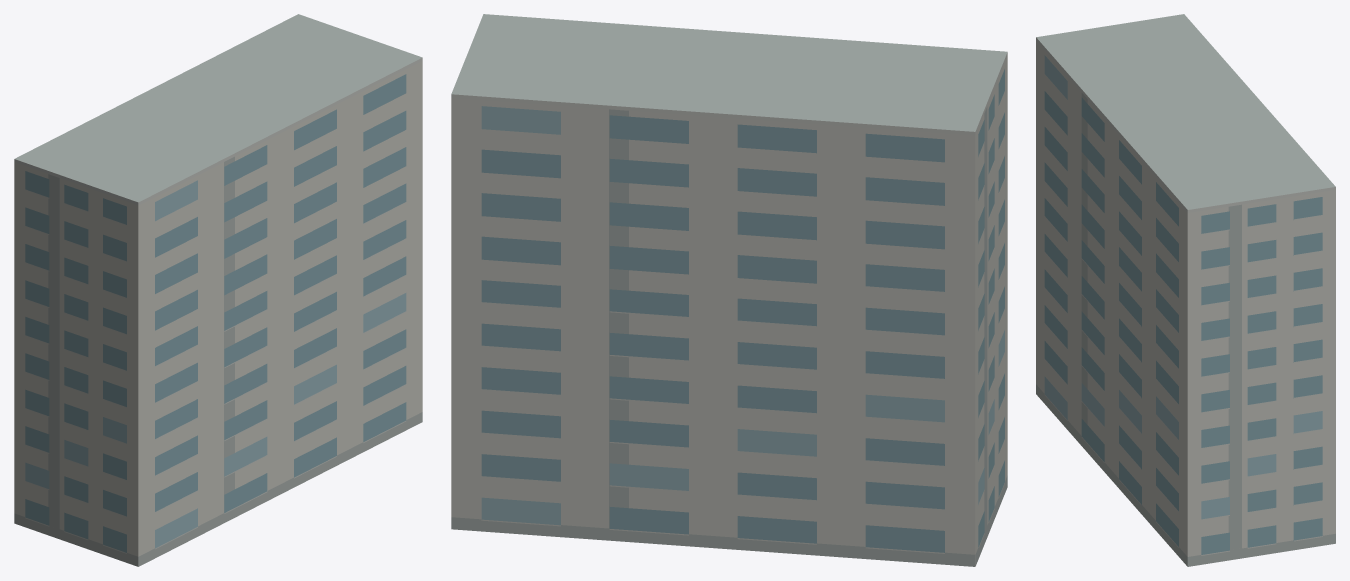
The model's file is residential-2a01c825-186c-497f-a1f9-6c03100957a8.glb.
3 views of the same model, side by side, from view 1: azimuth 30°, elevation 25°; view 2: azimuth 150°, elevation 25°; view 3: azimuth 270°, elevation 25° (orthographic). The views are drawn at different scales.
Parts seen in each view (by area): view 1: residential-2a01c825-186c-497f-a1f9-6c03100957a8.tmp; view 2: residential-2a01c825-186c-497f-a1f9-6c03100957a8.tmp; view 3: residential-2a01c825-186c-497f-a1f9-6c03100957a8.tmp.
Part boxes in pixels (bbox=[...]): residential-2a01c825-186c-497f-a1f9-6c03100957a8.tmp: bbox=[14, 14, 422, 566]; residential-2a01c825-186c-497f-a1f9-6c03100957a8.tmp: bbox=[451, 14, 1007, 566]; residential-2a01c825-186c-497f-a1f9-6c03100957a8.tmp: bbox=[1036, 14, 1335, 566].
Size of the model in its own units: 33 by 28 by 21.33.
